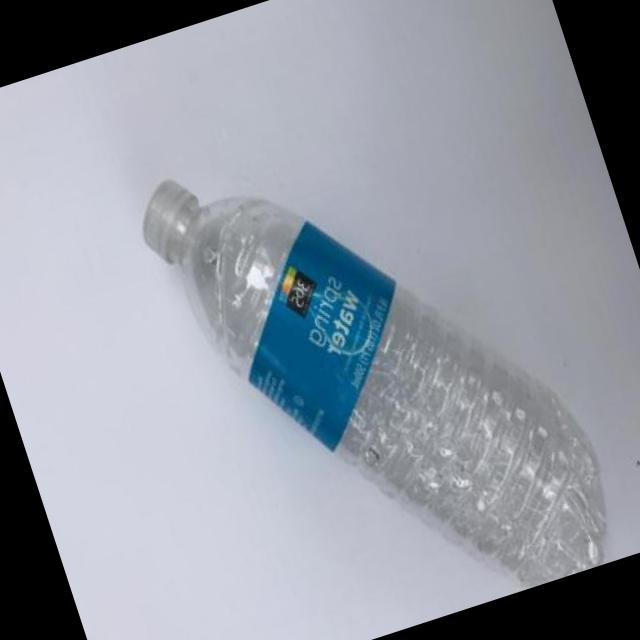BotolPlastik: (127, 80, 630, 640)
